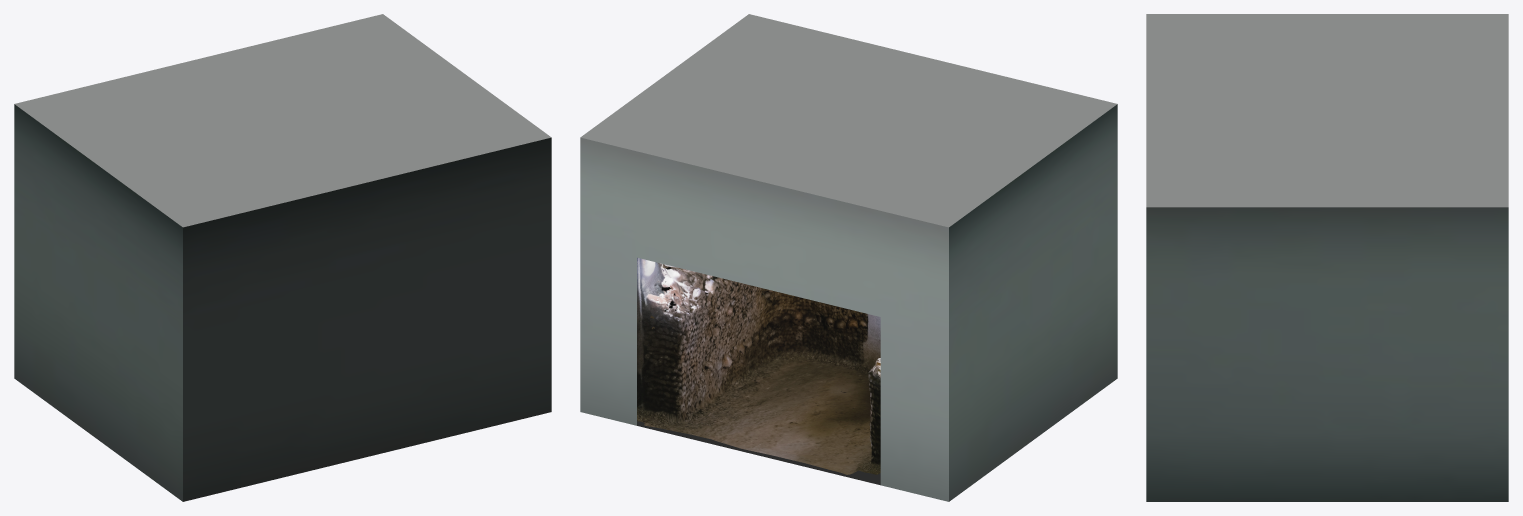
Rendered from paris.glb.
3 renders of one model, left to right at view 1: azimuth 30°, elevation 25°; view 2: azimuth 150°, elevation 25°; view 3: azimuth 270°, elevation 25°, orthographic. The views are drawn at different scales.
Bounding box in the file's own units: 4.76 × 3.39 × 3.77.
Materials: 1 (1 with a texture image).
